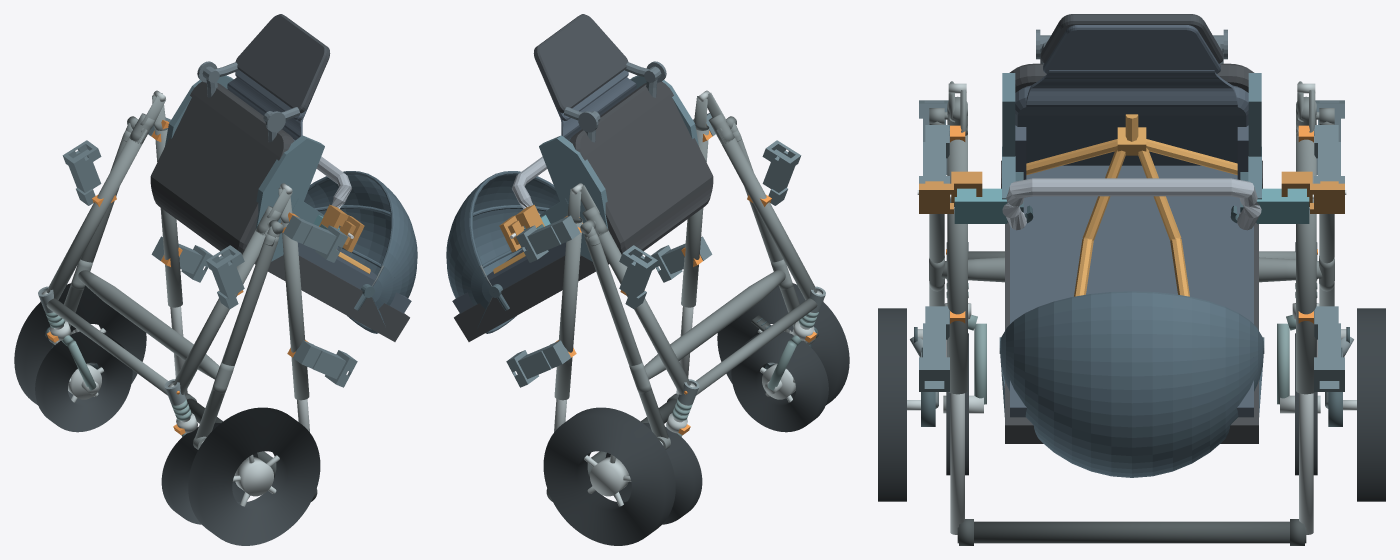
File: S05_w650_state3_wheel_M.glb
3 views of the same model, side by side, from view 1: azimuth 30°, elevation 25°; view 2: azimuth 150°, elevation 25°; view 3: azimuth 270°, elevation 25° (orthographic). The views are drawn at different scales.
Visible parts, largest first — view 1: S05_Cabin, RL_tire.008, FR_tire.008, RR_tire.008, S05_Cabin_Mount_M, V46_rearbar.009, main_lower_1.009, V46_rear_leg_-1.009, main_upper_-1.009, FL_tire.008, main_lower_-1.009, front_fixed_round_tube.008 (+11 smaller); view 2: S05_Cabin, RR_tire.008, FL_tire.008, RL_tire.008, S05_Cabin_Mount_M, V46_rearbar.009, main_lower_-1.009, V46_rear_leg_1.009, main_upper_1.009, FR_tire.008, main_lower_1.009, front_fixed_round_tube.008 (+11 smaller); view 3: S05_Cabin, round_handle.008, S05_Cabin_Mount_M, RL_tire.008, RR_tire.008, main_upper_1.009, main_upper_-1.009, Universal_Cabin_Receiver_H_1, Universal_Cabin_Receiver_H_-1, handle_slider_1.008, handle_slider_-1.008, V46_rearbar.009 (+10 smaller).
Part boxes in pixels (x1,y1,x2,y2): S05_Cabin: (150,14,417,341); RL_tire.008: (188,407,320,545); FR_tire.008: (35,331,132,432); RR_tire.008: (14,283,146,404); S05_Cabin_Mount_M: (165,75,339,261); V46_rearbar.009: (78,270,219,379); main_lower_1.009: (46,129,147,300); V46_rear_leg_-1.009: (195,233,278,438); main_upper_-1.009: (281,221,309,400); FL_tire.008: (161,423,258,524); main_lower_-1.009: (173,228,268,394); front_fixed_round_tube.008: (46,298,167,395); S05_Cabin: (446,14,713,341); RR_tire.008: (543,407,675,545); FL_tire.008: (731,331,828,432); RL_tire.008: (717,283,849,404); S05_Cabin_Mount_M: (524,75,698,261); V46_rearbar.009: (644,270,785,379); main_lower_-1.009: (716,129,817,300); V46_rear_leg_1.009: (585,233,668,438); main_upper_1.009: (554,218,582,400); FR_tire.008: (605,423,702,524); main_lower_1.009: (595,228,690,394); front_fixed_round_tube.008: (696,298,817,395); S05_Cabin: (999,14,1264,477); round_handle.008: (957,521,1306,543); S05_Cabin_Mount_M: (950,73,1313,223); RL_tire.008: (878,308,906,501); RR_tire.008: (1357,308,1385,501); main_upper_1.009: (1296,135,1316,394); main_upper_-1.009: (947,135,967,394); Universal_Cabin_Receiver_H_1: (1314,306,1344,391); Universal_Cabin_Receiver_H_-1: (919,306,949,391); handle_slider_1.008: (1299,393,1313,534); handle_slider_-1.008: (950,393,964,534); V46_rearbar.009: (941,257,1322,282).
Bounding box in the file's own units: 0.7456 × 0.9736 × 0.7871.
